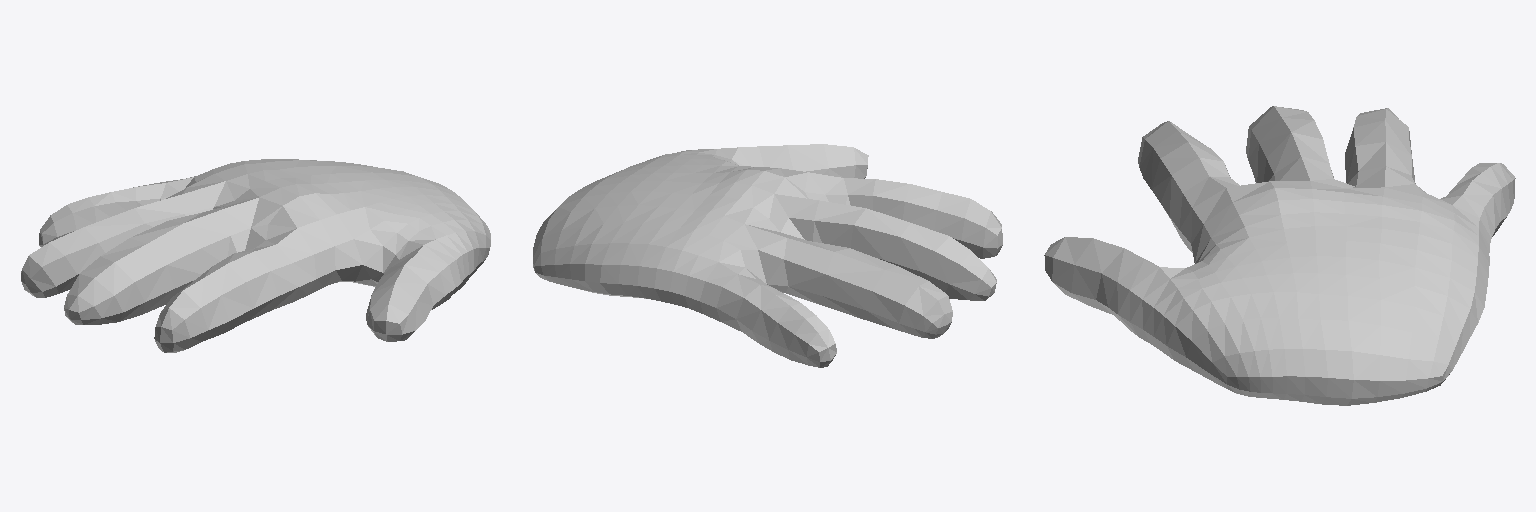
robot.urdf — human_hand:
<?xml version="1.0" encoding="utf-8"?>

<!-- =================================================================================== -->
<!-- |    This document was autogenerated by xacro from panda_arm_hand.urdf.xacro      | -->
<!-- |    EDITING THIS FILE BY HAND IS NOT RECOMMENDED                                 | -->
<!-- =================================================================================== -->
<robot name="human_hand" xmlns:xacro="http://www.ros.org/wiki/xacro">
  <link name="world" />
  <link name="human_hand">
    <inertial>
      <origin rpy="0 0 0" xyz="0 0 0.04" />
      <mass value=".81" />
      <inertia ixx="0.1" ixy="0" ixz="0" iyy="0.1" iyz="0" izz="0.1" />
    </inertial>
    <visual>
      <geometry>
        <mesh filename="package://bringup/meshes/human/hand.dae" />
      </geometry>
    </visual>
    <collision>
      <geometry>
        <mesh filename="package://bringup/meshes/visual/hand.obj" />
      </geometry>
    </collision>
  </link>
  <!-- TO MATCH WITH INIT POSE IN gazebo world file -->
  <joint name="human_joint_world" type="floating">
    <origin xyz="1.38 0.5 0.87" rpy="0 -0 3.14159" />
    <parent link="world" />
    <child link="human_hand" />
  </joint>

</robot>

--- Render facts (derived) ---
Views: 3 orthographic renders of the robot side by side, from view 1: azimuth 30°, elevation 25°; view 2: azimuth 150°, elevation 25°; view 3: azimuth 270°, elevation 25°.
Robot: human_hand — 2 links, 1 joints (1 floating); root link world; default pose: every joint at zero.
Links seen in each view (by area): view 1: human_hand; view 2: human_hand; view 3: human_hand.
Boxes of the visible links, x1,y1,x2,y2 form: human_hand: (21, 159, 490, 352); human_hand: (533, 144, 1002, 367); human_hand: (1044, 106, 1515, 405).
Size in the robot's own frame: 0.2263 by 0.1877 by 0.057 metres.
Meshes: 1 distinct files referenced, 1 mesh visuals loaded (1 Collada DAE).